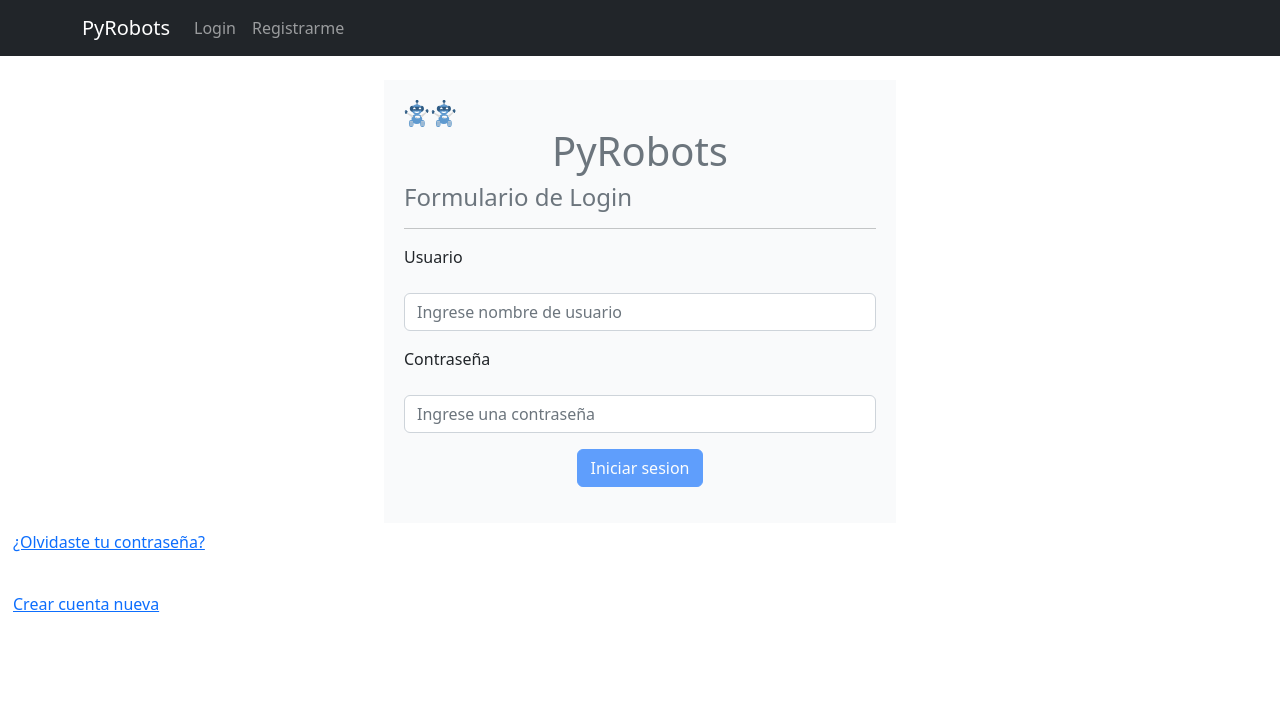
it: Tests recover password en el login › se renderiza el modal?
This screenshot has width=1280, height=720.
Click the button "¿Olvidaste tu contraseña?" at coordinates (109, 542), box x1=0 y1=523 x2=218 y2=561
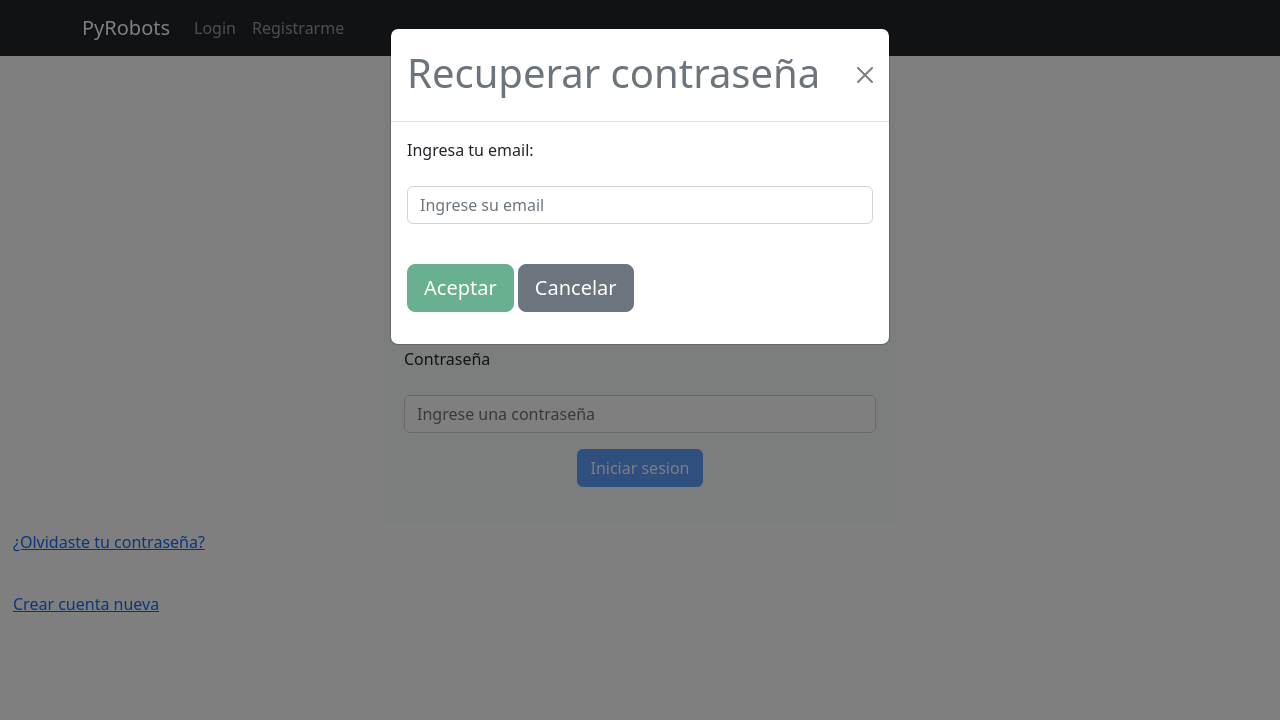
Check: the heading "Recuperar contraseña" is shown, box x1=407 y1=49 x2=820 y2=97
Check: the text "Ingresa tu email:" is shown, box x1=407 y1=138 x2=534 y2=162
